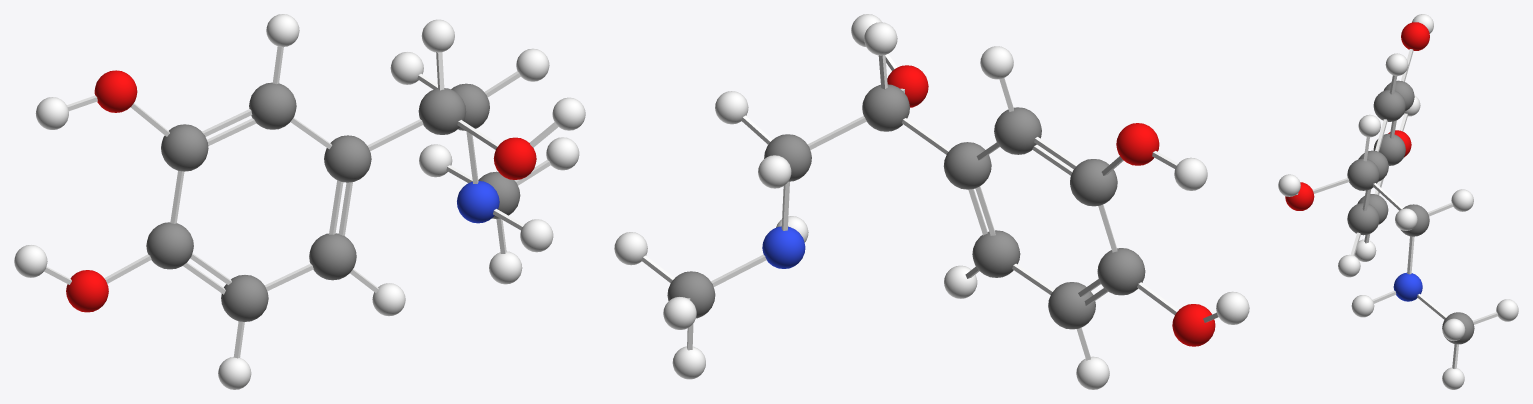
Rendered from adrenaline_avo_scale.glb.
3 views of the same model, side by side, from view 1: azimuth 30°, elevation 25°; view 2: azimuth 150°, elevation 25°; view 3: azimuth 270°, elevation 25° (orthographic). The views are drawn at different scales.
Parts seen in each view (by area): view 1: nodes[1], nodes[5], nodes[0], nodes[3], nodes[4], nodes[2], nodes[11], nodes[14], nodes[9], nodes[10], nodes[15], nodes[13] (+14 smaller); view 2: nodes[1], nodes[11], nodes[5], nodes[3], nodes[4], nodes[0], nodes[2], nodes[9], nodes[15], nodes[10], nodes[18], nodes[13] (+12 smaller); view 3: nodes[11], nodes[3], nodes[5], nodes[9], nodes[15], nodes[1], nodes[14], nodes[13], nodes[18], nodes[16], nodes[21], nodes[24] (+12 smaller).
Part boxes in pixels (x1,y1,x2,y2): nodes[1]: (146,222,193,269); nodes[5]: (309,233,356,280); nodes[0]: (161,124,208,171); nodes[3]: (249,82,296,129); nodes[4]: (324,135,371,182); nodes[2]: (221,275,268,321); nodes[11]: (418,88,466,134); nodes[14]: (493,137,536,179); nodes[9]: (94,70,137,112); nodes[10]: (66,270,108,312); nodes[15]: (457,181,499,223); nodes[13]: (451,83,489,130); nodes[1]: (1097,248,1145,295); nodes[11]: (862,84,909,131); nodes[5]: (972,230,1020,277); nodes[3]: (994,107,1041,154); nodes[4]: (943,142,991,189); nodes[0]: (1070,159,1117,206); nodes[2]: (1048,282,1095,329); nodes[9]: (1116,123,1159,165); nodes[15]: (762,226,805,268); nodes[10]: (1172,304,1215,346); nodes[18]: (667,271,715,318); nodes[13]: (764,134,811,181); nodes[11]: (1347,158,1379,190); nodes[3]: (1373,89,1405,121); nodes[5]: (1347,203,1379,235); nodes[9]: (1401,22,1429,50); nodes[15]: (1393,272,1422,301); nodes[1]: (1373,133,1405,165); nodes[14]: (1285,182,1314,210); nodes[13]: (1400,204,1429,236); nodes[18]: (1442,312,1474,344); nodes[16]: (1395,208,1417,230); nodes[21]: (1442,318,1465,341); nodes[24]: (1351,295,1374,317).
Size of the model in its own units: 0.4507 by 0.2628 by 0.2323.
